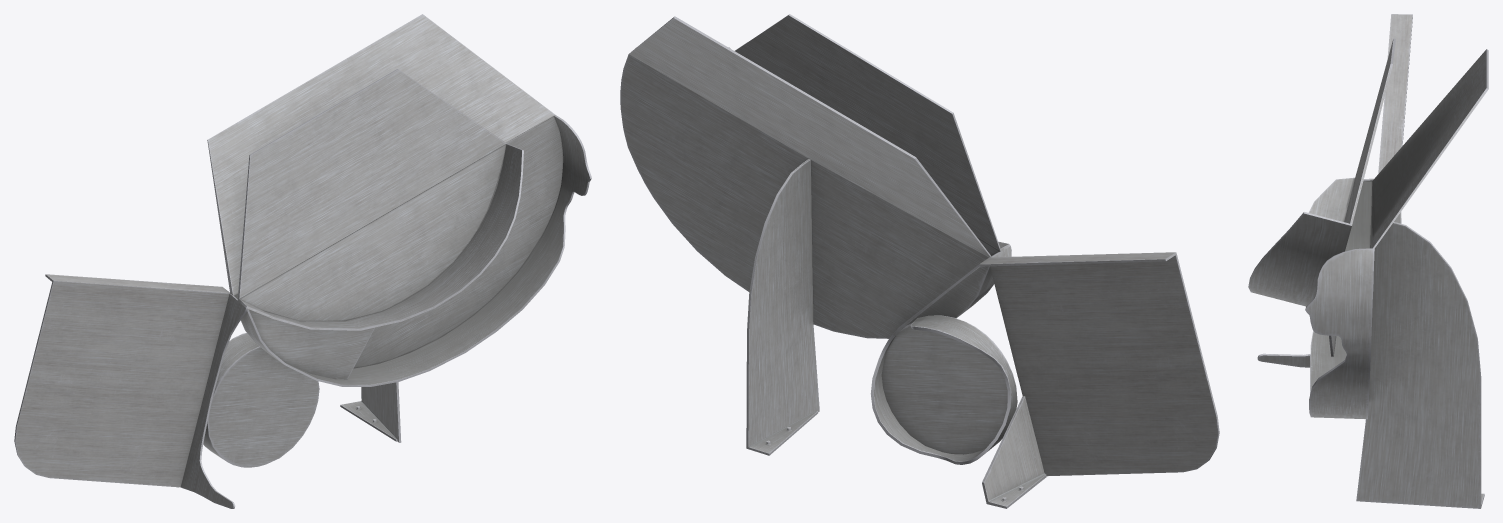
Rendered from ProfileCanto_5-2.glb.
3 views of the same model, side by side, from view 1: azimuth 30°, elevation 25°; view 2: azimuth 150°, elevation 25°; view 3: azimuth 270°, elevation 25° (orthographic). The views are drawn at different scales.
Parts seen in each view (by area): view 1: ProfileCanto5_2; view 2: ProfileCanto5_2; view 3: ProfileCanto5_2.
Part boxes in pixels (left/top/right/bottom): ProfileCanto5_2: left=14, top=14, right=591, bottom=508; ProfileCanto5_2: left=620, top=14, right=1219, bottom=508; ProfileCanto5_2: left=1248, top=14, right=1488, bottom=508.
Size of the model in its own units: 2.85 by 1.87 by 0.8905.
Materials: 1 (1 with a texture image).
